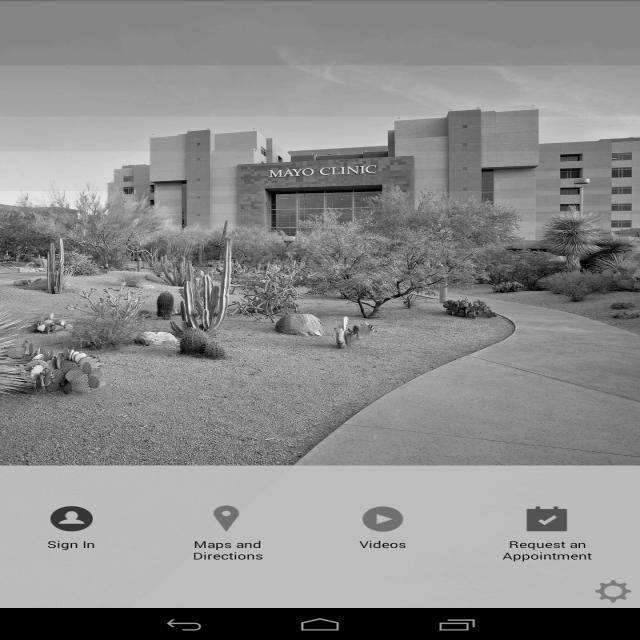ImageButton: (500, 495, 593, 533), (583, 577, 627, 605)
ImageView: (6, 85, 614, 441), (194, 507, 278, 563), (36, 502, 114, 556), (341, 505, 421, 543)
